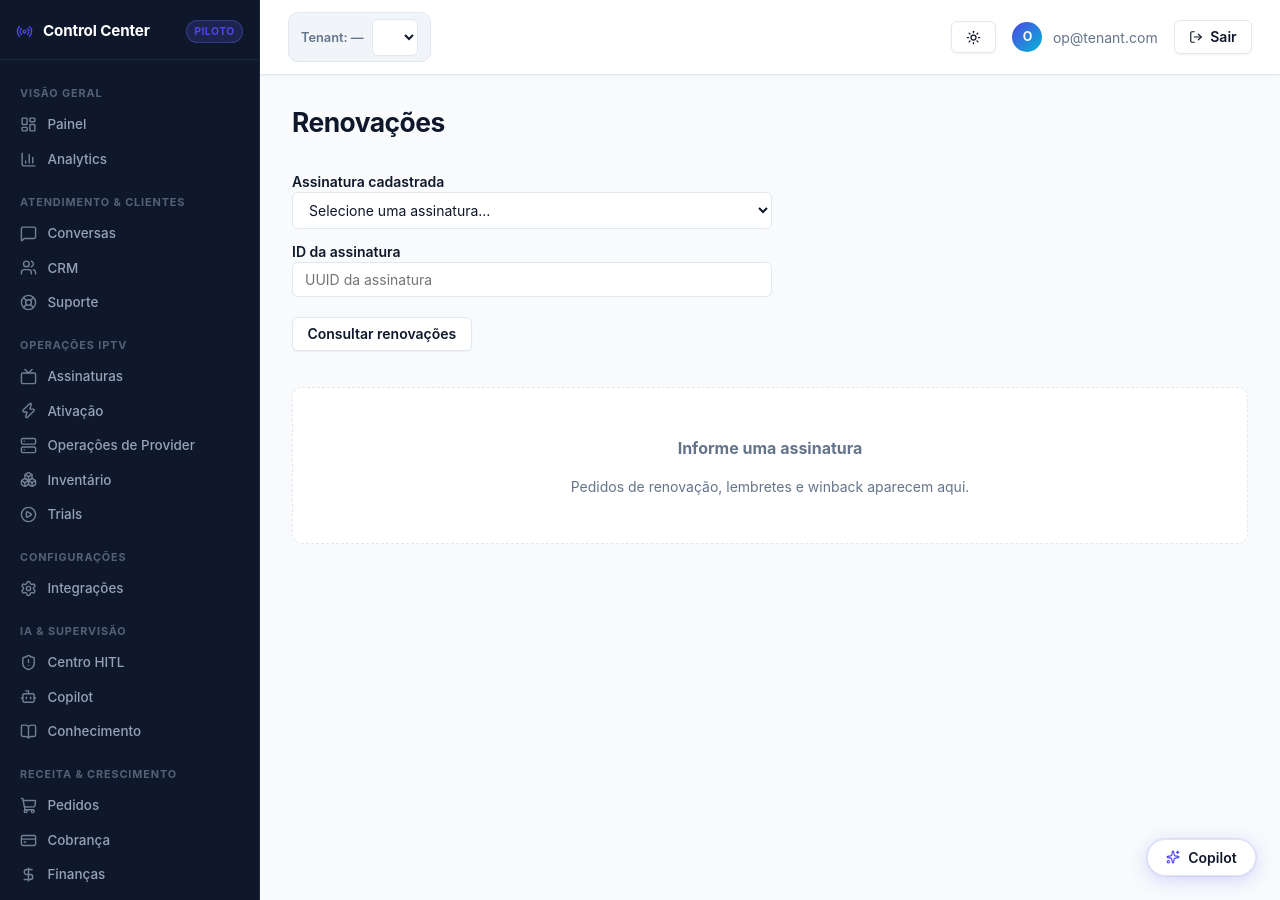
it: RenewalsPage › renderiza lista de assinaturas cadastradas e consulta renovações ao selecionar via select
Expected: the heading "Renovações" is shown, [292, 106, 445, 138]
// Seleciona a assinatura via dropdown
Select "sub-1111… (ACTIVE) - plano plan-mon…" in the dropdown named "Selecionar assinatura" at (532, 210), box [292, 192, 772, 229]
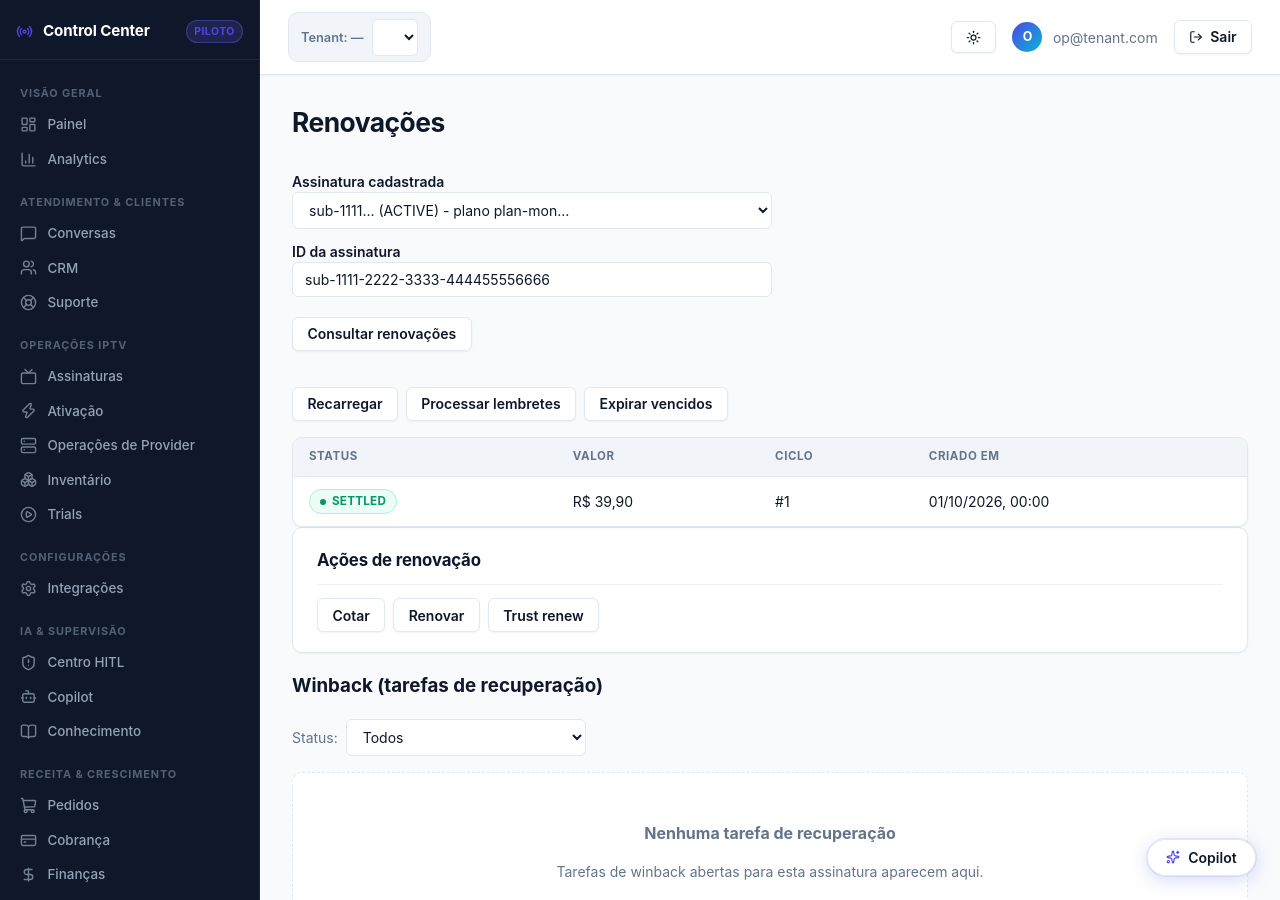
Expected: the text "R$ 39,90" is shown, [557, 477, 759, 526]
Expected: the text "#1" is shown, [759, 477, 913, 526]
Expected: the text "SETTLED" is shown, [309, 489, 398, 514]
